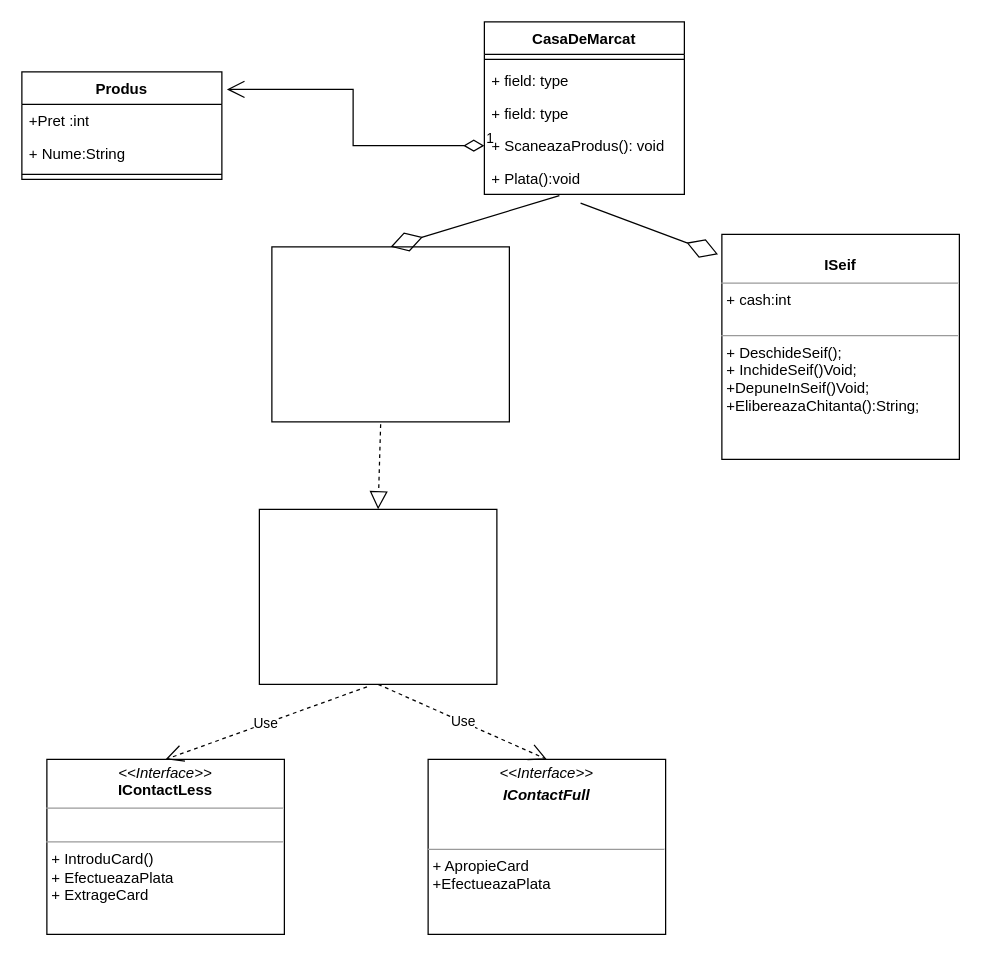
Some shapes in this 981 by 956 pixel diagram are drawn without their labels. The shapes that lost their labels are listed below. From the top down, each one's centre as x and y in pixels, then its label:
the point at 390,334: PoS + ContBancar() + PayContactLes():void + PayContactFul():void
the point at 377,596: <<Interface>> IPoS +EfectueazaPlata
